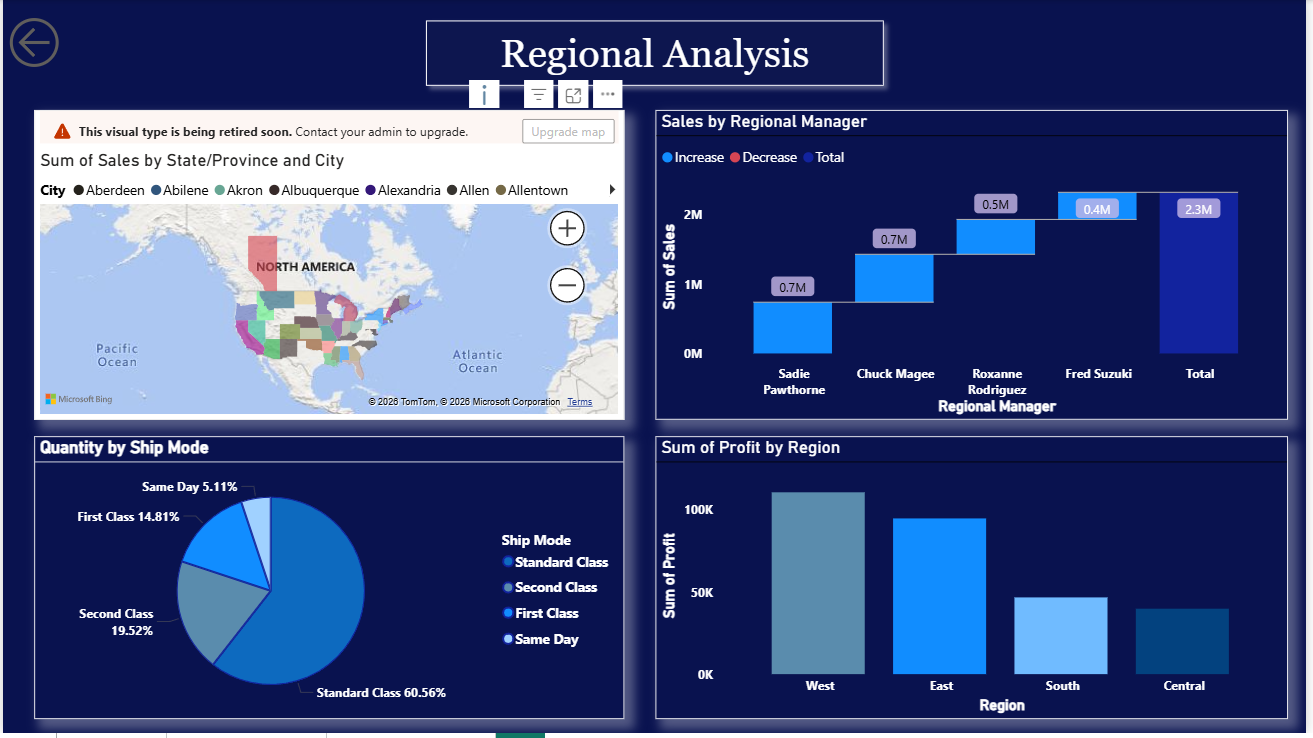

Layout of this report page (visuals, bound fields, positions):
{"tool":"powerbi","page":{"name":"Regional_analysis","canvas":[1280,720],"ordinal":2},"visuals":[{"type":"shape","box":[406.1,11,467.5,82.2],"z":0},{"type":"actionButton","box":[0,11,66.3,61.4],"z":1000},{"type":"filledMap","fields":{"Category":["Orders.State/Province"],"Series":["Orders.City"]},"box":[30.7,108,579.1,304.3],"z":2000},{"type":"pieChart","title":" Quantity by Ship Mode","fields":{"Category":["Orders.Ship Mode"],"Y":["Sum(Orders.Quantity)"]},"box":[30.7,428.2,579.1,277.3],"z":2001},{"type":"waterfallChart","title":" Sales by Regional Manager","fields":{"Y":["Sum(Orders.Sales)"],"Category":["People.Regional Manager"]},"box":[640.5,108,620.9,304.3],"z":2002},{"type":"columnChart","fields":{"Category":["People.Region"],"Y":["Sum(Orders.Profit)"]},"box":[640.5,428.2,620.9,277.3],"z":2003}]}

Visuals, with their boxes in screenshot pixels (x1, y1, x2, y2), scaled from the page's 1280x720 canvas onto the 1313x738 screenshot:
shape: [left=417, top=11, right=896, bottom=96]
actionButton: [left=0, top=11, right=68, bottom=74]
filledMap - Orders.State/Province x Orders.City: [left=31, top=111, right=626, bottom=423]
" Quantity by Ship Mode" pieChart: [left=31, top=439, right=626, bottom=723]
" Sales by Regional Manager" waterfallChart: [left=657, top=111, right=1294, bottom=423]
columnChart - People.Region x Sum(Orders.Profit): [left=657, top=439, right=1294, bottom=723]
